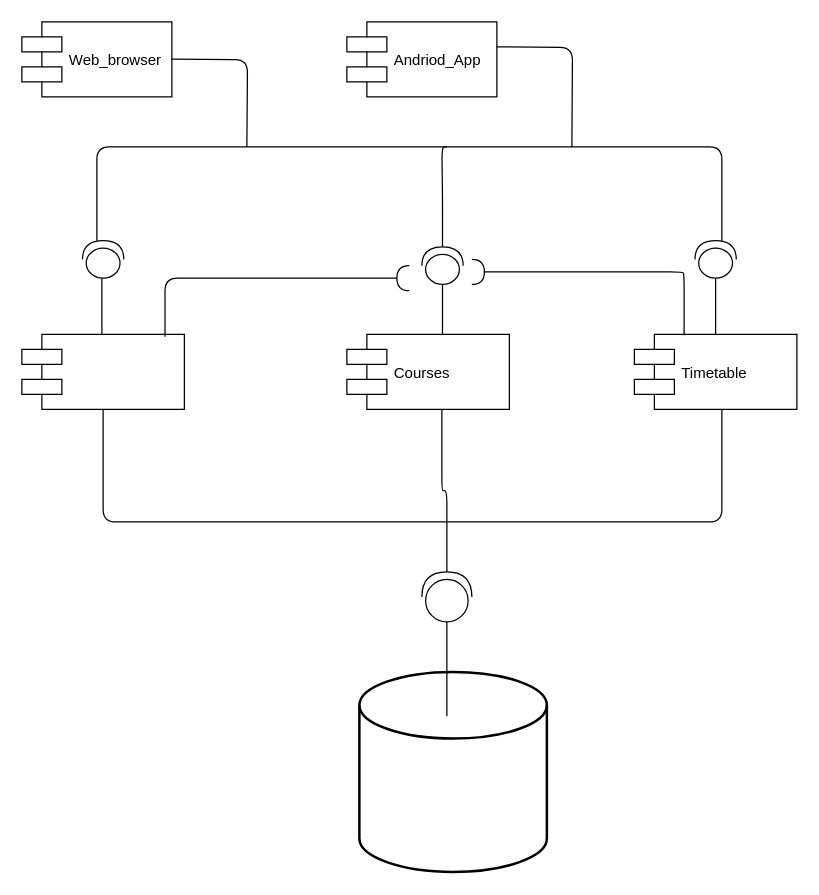
This 819x895 diagram has some shape labels left out. Here are the shapes that lost their labels. From the top down, the centre of each, then its label:
point 102,371: Announcements
point 453,771: SQLite3
